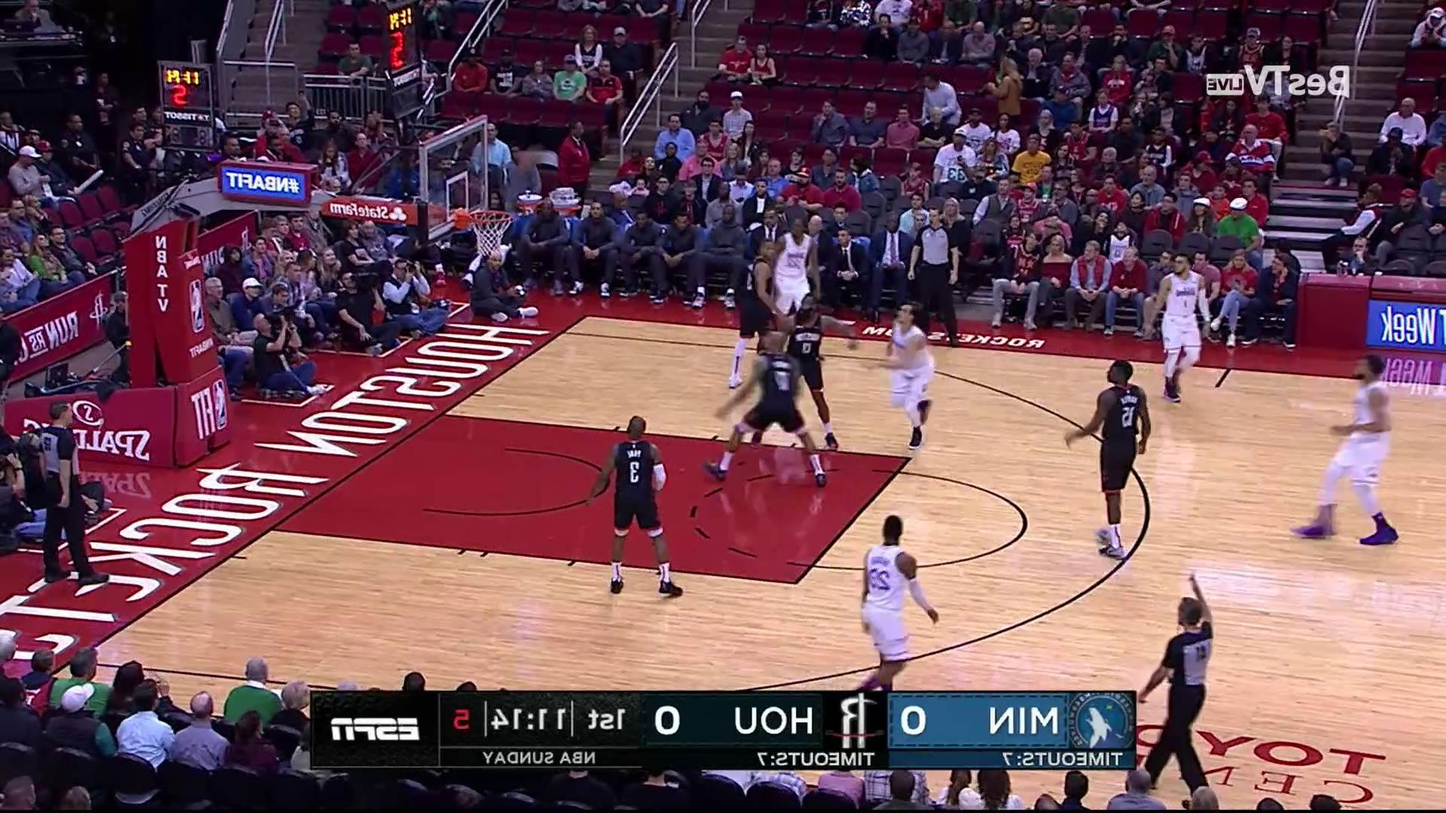basketball: (517, 149, 539, 172)
